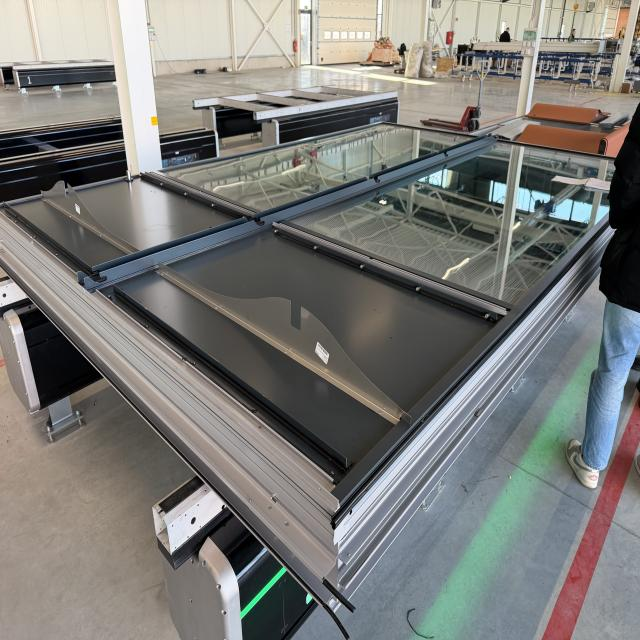lim_nedostaje: (29, 147, 417, 453)
